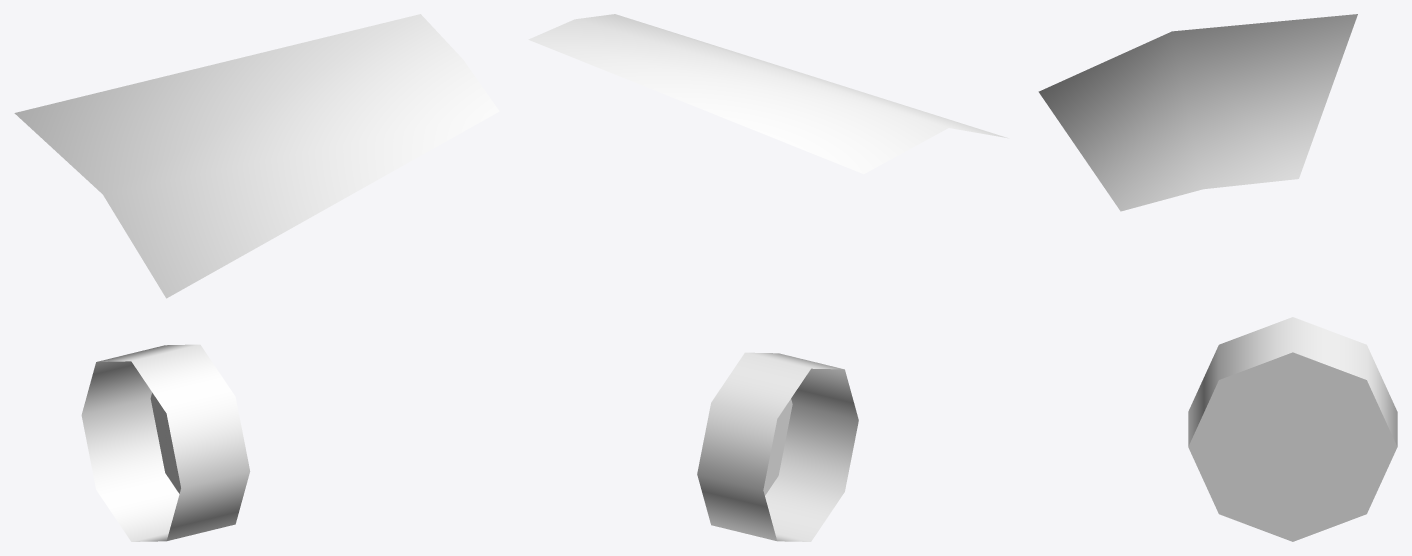
3 views of the same model, side by side, from view 1: azimuth 30°, elevation 25°; view 2: azimuth 150°, elevation 25°; view 3: azimuth 270°, elevation 25° (orthographic). The views are drawn at different scales.
Bounding box in the file's own units: 0.3286 × 0.3772 × 0.2572.
Materials: 1 (1 with a texture image).
